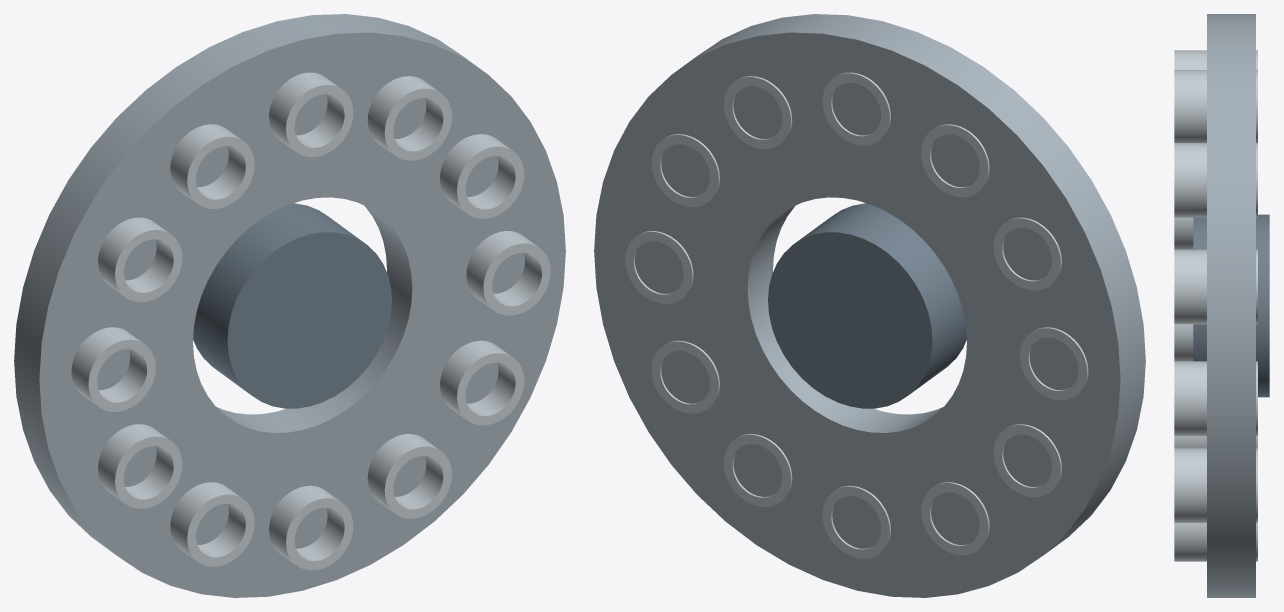
File: MAG.glb
3 views of the same model, side by side, from view 1: azimuth 30°, elevation 25°; view 2: azimuth 150°, elevation 25°; view 3: azimuth 270°, elevation 25° (orthographic). The views are drawn at different scales.
Visible parts, largest first — view 1: MAG/0000_magazine_disc, MAG/0001_hub, MAG/0002_pocket, MAG/0006_pocket, MAG/0010_pocket, MAG/0013_pocket, MAG/0011_pocket, MAG/0007_pocket, MAG/0005_pocket, MAG/0008_pocket, MAG/0009_pocket, MAG/0012_pocket (+2 smaller); view 2: MAG/0000_magazine_disc, MAG/0001_hub, MAG/0006_pocket, MAG/0011_pocket, MAG/0013_pocket, MAG/0008_pocket, MAG/0010_pocket, MAG/0002_pocket, MAG/0009_pocket, MAG/0007_pocket, MAG/0005_pocket, MAG/0003_pocket (+2 smaller); view 3: MAG/0000_magazine_disc, MAG/0001_hub, MAG/0003_pocket, MAG/0002_pocket, MAG/0004_pocket, MAG/0013_pocket, MAG/0005_pocket, MAG/0012_pocket, MAG/0009_pocket, MAG/0006_pocket, MAG/0008_pocket, MAG/0010_pocket.
Boxes of the visible parts, x1,y1,x2,y2 form: MAG/0000_magazine_disc: (14, 14, 565, 597); MAG/0001_hub: (193, 203, 391, 408); MAG/0002_pocket: (466, 231, 550, 315); MAG/0006_pocket: (170, 124, 254, 208); MAG/0010_pocket: (170, 482, 254, 566); MAG/0013_pocket: (440, 340, 524, 425); MAG/0011_pocket: (269, 485, 353, 570); MAG/0007_pocket: (98, 217, 182, 302); MAG/0005_pocket: (269, 72, 353, 157); MAG/0008_pocket: (71, 327, 155, 411); MAG/0009_pocket: (98, 424, 182, 508); MAG/0012_pocket: (367, 434, 451, 518); MAG/0000_magazine_disc: (594, 14, 1145, 597); MAG/0001_hub: (768, 203, 966, 408); MAG/0006_pocket: (921, 124, 989, 197); MAG/0011_pocket: (822, 485, 890, 558); MAG/0013_pocket: (651, 340, 719, 413); MAG/0008_pocket: (1020, 327, 1088, 400); MAG/0010_pocket: (921, 482, 989, 555); MAG/0002_pocket: (625, 231, 693, 303); MAG/0009_pocket: (993, 424, 1061, 497); MAG/0007_pocket: (993, 217, 1061, 290); MAG/0005_pocket: (822, 72, 890, 145); MAG/0003_pocket: (651, 134, 719, 207); MAG/0000_magazine_disc: (1207, 14, 1255, 597); MAG/0001_hub: (1193, 214, 1269, 397); MAG/0003_pocket: (1174, 249, 1257, 324); MAG/0002_pocket: (1174, 361, 1257, 435); MAG/0004_pocket: (1174, 143, 1257, 217); MAG/0013_pocket: (1174, 448, 1257, 522); MAG/0005_pocket: (1174, 70, 1257, 142); MAG/0012_pocket: (1174, 523, 1257, 561); MAG/0009_pocket: (1174, 324, 1193, 361); MAG/0006_pocket: (1174, 50, 1257, 69); MAG/0008_pocket: (1174, 217, 1193, 249); MAG/0010_pocket: (1174, 436, 1257, 448).
Bounding box in the file's own units: 0.4224 × 0.4224 × 0.0688.
